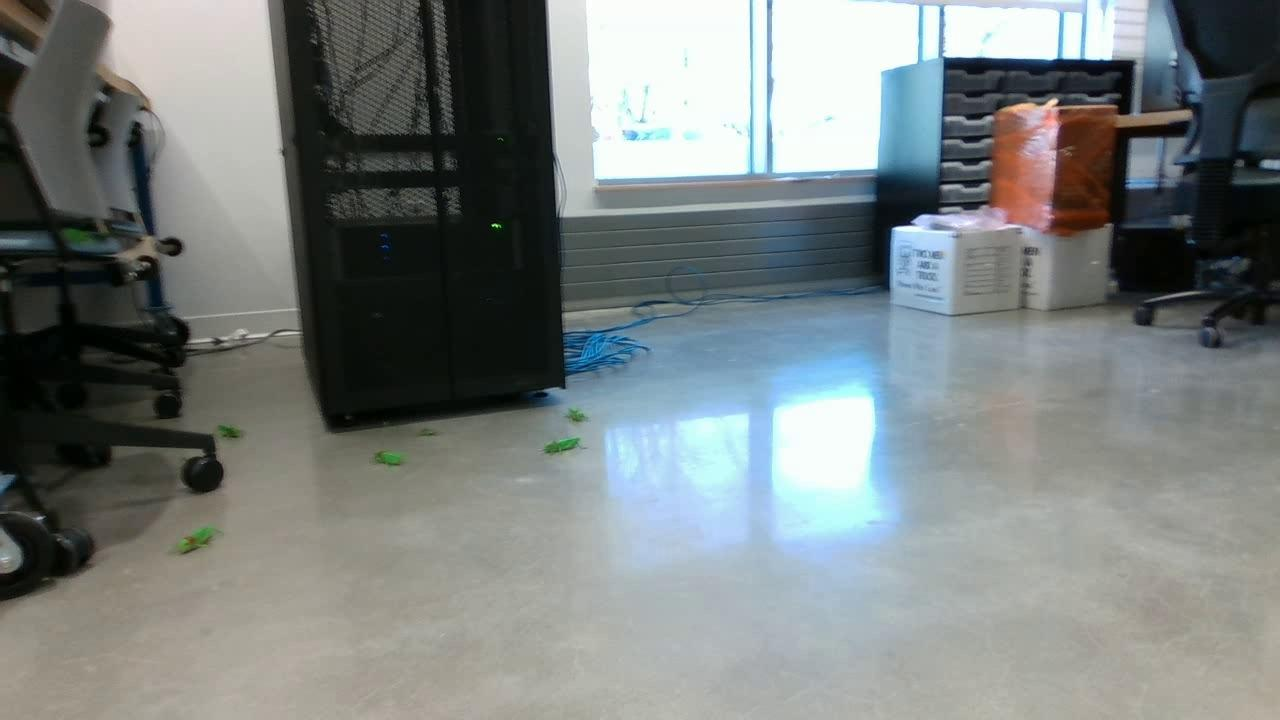grasshopper: (51, 224, 98, 246), (177, 526, 214, 552), (540, 435, 584, 455), (370, 448, 411, 464), (563, 404, 587, 425), (220, 427, 247, 441)
